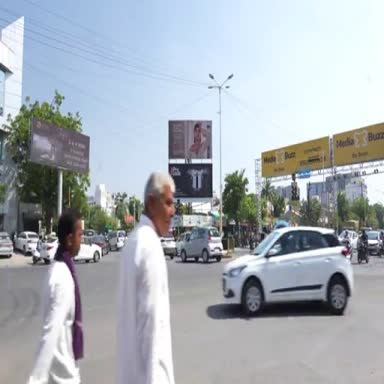Car: (222, 226, 353, 316), (180, 227, 223, 263), (33, 238, 58, 264), (74, 238, 101, 262), (14, 232, 38, 256), (160, 234, 176, 259), (90, 235, 108, 256), (0, 232, 13, 258), (176, 232, 190, 256), (109, 231, 125, 250), (367, 231, 380, 254), (346, 230, 358, 251)
